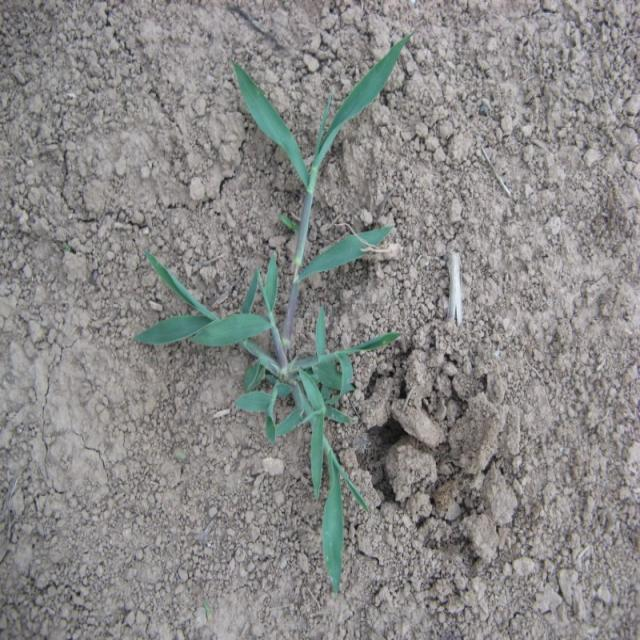bg: (137, 47, 404, 590)
